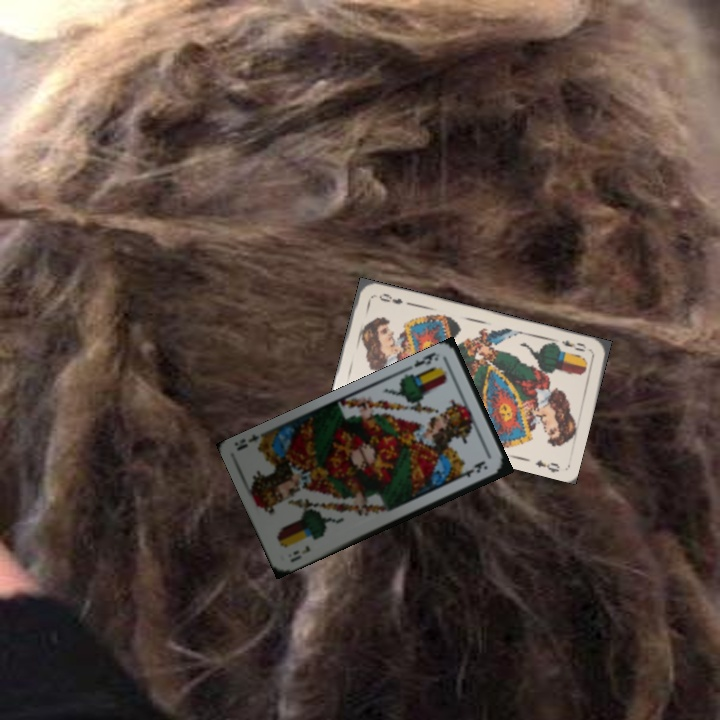EK: (286, 541, 312, 565), (410, 348, 438, 370)
EO: (558, 336, 588, 354)
